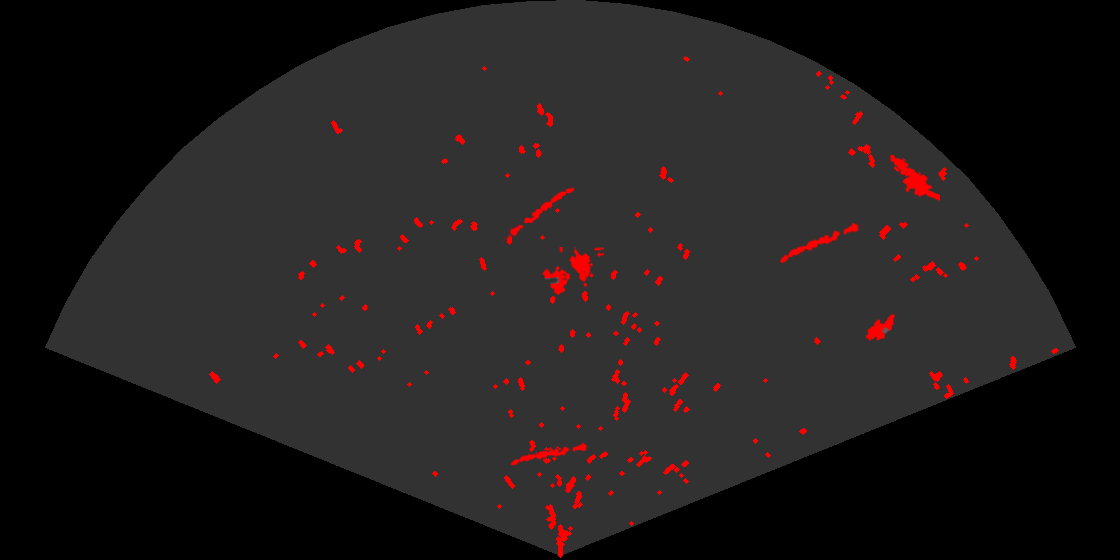AUV: (864, 312, 897, 342)
cage: (540, 247, 604, 297)
chain: (499, 186, 576, 242), (778, 221, 862, 265), (509, 441, 588, 467)
frogman: (887, 153, 940, 203)
